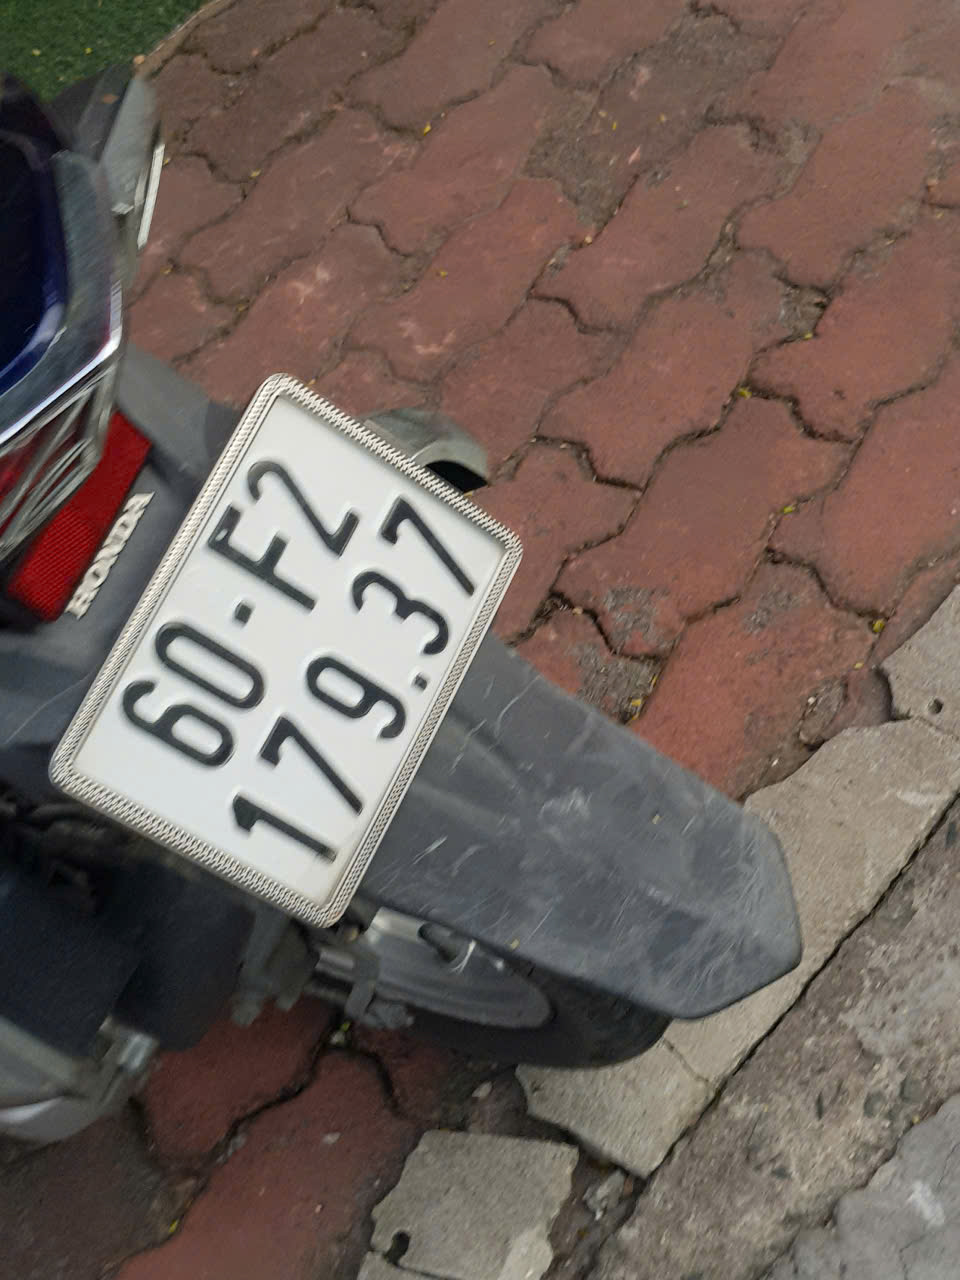bien_so: (65, 385, 513, 914)
